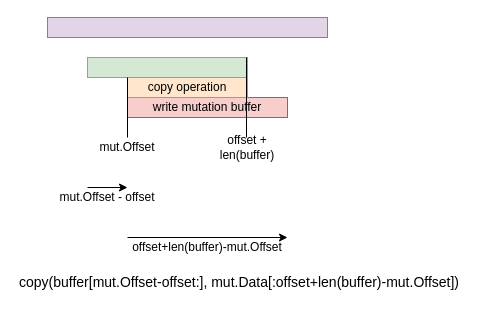
This 484x315 diagram has some shape labels left out. The shapes that lost their labels are listed below. From the top down, each one's centre as x and y in pixels, then its label:
[187,27]: actual file byte range
[167,67]: read buffer
